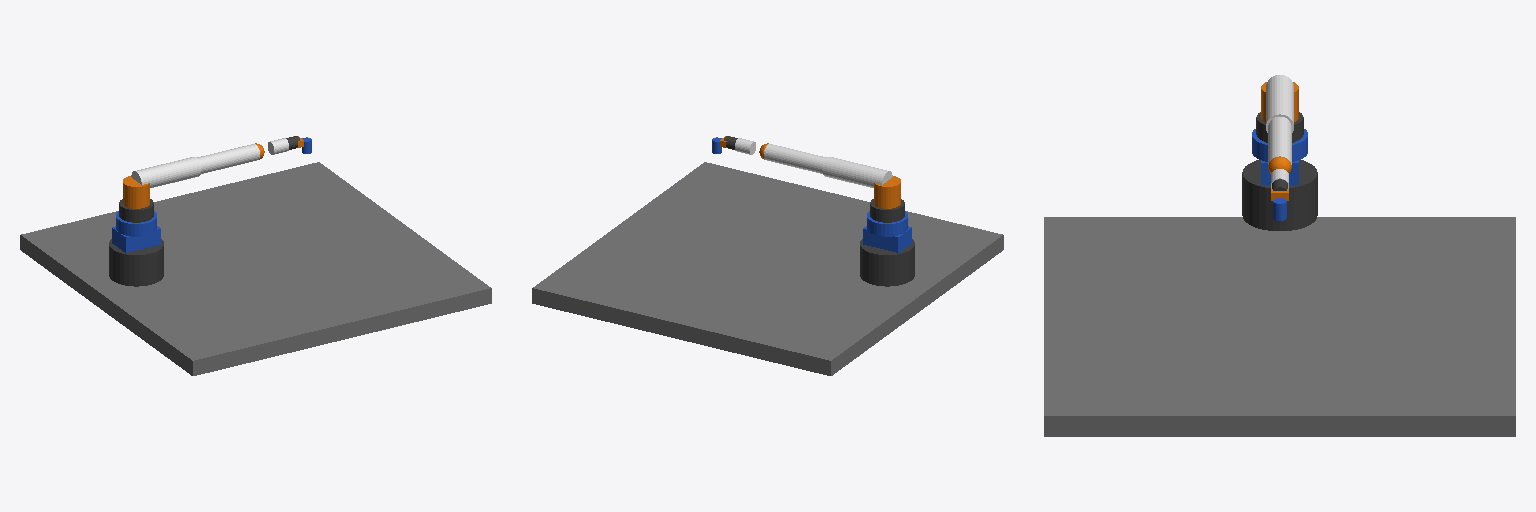
URDF robot description (cleaning_robot):
<?xml version="1.0" ?>
<!--
  Cleaning Robot Assembly URDF
  ============================
  8-DoF Redundant Manipulator:
  - 2-DoF Pan-Tilt Platform (roll/pitch)
  - 6-DoF Unitree Z1 Arm
  
  Frame definitions:
  - world: Fixed world frame
  - table: Table surface frame (where cleaning happens)
  - platform_base: Base of the pan-tilt platform
  - platform_roll_link: After roll joint
  - platform_pitch_link: After pitch joint (top of platform)
  - z1_base: Base of Z1 arm (fixed to platform top)
  - link1-6: Z1 arm links
  - ee_link: End-effector link
  - tool_tip: Tool center point (TCP)
  
  Joint order (q0-q7):
  0: platform_roll  (X-axis rotation)
  1: platform_pitch (Y-axis rotation)
  2: z1_joint1 (shoulder yaw)
  3: z1_joint2 (shoulder pitch)
  4: z1_joint3 (elbow pitch)
  5: z1_joint4 (wrist yaw)
  6: z1_joint5 (wrist pitch)
  7: z1_joint6 (wrist roll)
-->
<robot name="cleaning_robot">
    <!-- Materials -->
    <material name="grey">
        <color rgba="0.5 0.5 0.5 1"/>
    </material>
    <material name="dark_grey">
        <color rgba="0.3 0.3 0.3 1"/>
    </material>
    <material name="blue">
        <color rgba="0.2 0.4 0.8 1"/>
    </material>
    <material name="orange">
        <color rgba="0.9 0.5 0.1 1"/>
    </material>
    <material name="white">
        <color rgba="0.9 0.9 0.9 1"/>
    </material>

    <!-- World frame -->
    <link name="world"/>

    <!-- Table link (represents the cleaning surface) -->
    <joint name="table_fixed" type="fixed">
        <parent link="world"/>
        <child link="table"/>
        <origin xyz="0 0 0" rpy="0 0 0"/>
    </joint>

    <link name="table">
        <visual>
            <origin xyz="0.4 0 -0.025" rpy="0 0 0"/>
            <geometry>
                <box size="1.0 1.0 0.05"/>
            </geometry>
            <material name="grey"/>
        </visual>
        <collision>
            <origin xyz="0.4 0 -0.025" rpy="0 0 0"/>
            <geometry>
                <box size="1.0 1.0 0.05"/>
            </geometry>
        </collision>
        <inertial>
            <mass value="10.0"/>
            <inertia ixx="1.0" ixy="0" ixz="0" iyy="1.0" iyz="0" izz="1.0"/>
        </inertial>
    </link>

    <!-- Platform base (fixed to world, elevated) -->
    <joint name="platform_base_fixed" type="fixed">
        <parent link="world"/>
        <child link="platform_base"/>
        <origin xyz="0 0 0.1" rpy="0 0 0"/>
    </joint>

    <link name="platform_base">
        <visual>
            <origin xyz="0 0 0" rpy="0 0 0"/>
            <geometry>
                <cylinder radius="0.08" length="0.1"/>
            </geometry>
            <material name="dark_grey"/>
        </visual>
        <collision>
            <origin xyz="0 0 0" rpy="0 0 0"/>
            <geometry>
                <cylinder radius="0.08" length="0.1"/>
            </geometry>
        </collision>
        <inertial>
            <mass value="2.0"/>
            <origin xyz="0 0 0"/>
            <inertia ixx="0.01" ixy="0" ixz="0" iyy="0.01" iyz="0" izz="0.01"/>
        </inertial>
    </link>

    <!-- Platform Roll Joint (rotation about X-axis) -->
    <joint name="platform_roll" type="revolute">
        <parent link="platform_base"/>
        <child link="platform_roll_link"/>
        <origin xyz="0 0 0.05" rpy="0 0 0"/>
        <axis xyz="1 0 0"/>
        <limit lower="-0.785" upper="0.785" effort="50.0" velocity="2.0"/>
        <dynamics damping="0.5" friction="0.1"/>
    </joint>

    <link name="platform_roll_link">
        <visual>
            <origin xyz="0 0 0.025" rpy="0 0 0"/>
            <geometry>
                <box size="0.12 0.08 0.05"/>
            </geometry>
            <material name="blue"/>
        </visual>
        <collision>
            <origin xyz="0 0 0.025" rpy="0 0 0"/>
            <geometry>
                <box size="0.12 0.08 0.05"/>
            </geometry>
        </collision>
        <inertial>
            <mass value="0.5"/>
            <origin xyz="0 0 0.025"/>
            <inertia ixx="0.002" ixy="0" ixz="0" iyy="0.002" iyz="0" izz="0.002"/>
        </inertial>
    </link>

    <!-- Platform Pitch Joint (rotation about Y-axis) -->
    <joint name="platform_pitch" type="revolute">
        <parent link="platform_roll_link"/>
        <child link="platform_pitch_link"/>
        <origin xyz="0 0 0.05" rpy="0 0 0"/>
        <axis xyz="0 1 0"/>
        <limit lower="-0.785" upper="0.785" effort="50.0" velocity="2.0"/>
        <dynamics damping="0.5" friction="0.1"/>
    </joint>

    <link name="platform_pitch_link">
        <visual>
            <origin xyz="0 0 0.02" rpy="0 0 0"/>
            <geometry>
                <cylinder radius="0.06" length="0.04"/>
            </geometry>
            <material name="blue"/>
        </visual>
        <collision>
            <origin xyz="0 0 0.02" rpy="0 0 0"/>
            <geometry>
                <cylinder radius="0.06" length="0.04"/>
            </geometry>
        </collision>
        <inertial>
            <mass value="0.3"/>
            <origin xyz="0 0 0.02"/>
            <inertia ixx="0.001" ixy="0" ixz="0" iyy="0.001" iyz="0" izz="0.001"/>
        </inertial>
    </link>

    <!-- Z1 Base (fixed to platform top) -->
    <joint name="z1_base_fixed" type="fixed">
        <parent link="platform_pitch_link"/>
        <child link="z1_base"/>
        <origin xyz="0 0 0.04" rpy="0 0 0"/>
    </joint>

    <link name="z1_base">
        <visual>
            <origin xyz="0 0 0.02" rpy="0 0 0"/>
            <geometry>
                <cylinder radius="0.05" length="0.04"/>
            </geometry>
            <material name="dark_grey"/>
        </visual>
        <collision>
            <origin xyz="0 0 0.02" rpy="0 0 0"/>
            <geometry>
                <cylinder radius="0.05" length="0.04"/>
            </geometry>
        </collision>
        <inertial>
            <mass value="0.8"/>
            <origin xyz="0 0 0.02"/>
            <inertia ixx="0.002" ixy="0" ixz="0" iyy="0.002" iyz="0" izz="0.002"/>
        </inertial>
    </link>

    <!-- ==================== UNITREE Z1 ARM (6-DoF) ==================== -->
    <!-- Joint 1: Shoulder Yaw (Z-axis) -->
    <joint name="z1_joint1" type="revolute">
        <parent link="z1_base"/>
        <child link="z1_link1"/>
        <origin xyz="0 0 0.04" rpy="0 0 0"/>
        <axis xyz="0 0 1"/>
        <limit lower="-2.618" upper="2.618" effort="33.5" velocity="3.14"/>
        <dynamics damping="0.1" friction="0.05"/>
    </joint>

    <link name="z1_link1">
        <visual>
            <origin xyz="0 0 0.035" rpy="0 0 0"/>
            <geometry>
                <cylinder radius="0.04" length="0.07"/>
            </geometry>
            <material name="orange"/>
        </visual>
        <collision>
            <origin xyz="0 0 0.035" rpy="0 0 0"/>
            <geometry>
                <cylinder radius="0.04" length="0.07"/>
            </geometry>
        </collision>
        <inertial>
            <mass value="1.2"/>
            <origin xyz="0 0 0.035"/>
            <inertia ixx="0.003" ixy="0" ixz="0" iyy="0.003" iyz="0" izz="0.002"/>
        </inertial>
    </link>

    <!-- Joint 2: Shoulder Pitch (Y-axis) -->
    <joint name="z1_joint2" type="revolute">
        <parent link="z1_link1"/>
        <child link="z1_link2"/>
        <origin xyz="0 0 0.07" rpy="0 0 0"/>
        <axis xyz="0 1 0"/>
        <limit lower="-2.094" upper="2.094" effort="33.5" velocity="3.14"/>
        <dynamics damping="0.1" friction="0.05"/>
    </joint>

    <link name="z1_link2">
        <visual>
            <origin xyz="0.1 0 0" rpy="0 1.5708 0"/>
            <geometry>
                <cylinder radius="0.03" length="0.2"/>
            </geometry>
            <material name="white"/>
        </visual>
        <collision>
            <origin xyz="0.1 0 0" rpy="0 1.5708 0"/>
            <geometry>
                <cylinder radius="0.03" length="0.2"/>
            </geometry>
        </collision>
        <inertial>
            <mass value="0.9"/>
            <origin xyz="0.1 0 0"/>
            <inertia ixx="0.004" ixy="0" ixz="0" iyy="0.004" iyz="0" izz="0.001"/>
        </inertial>
    </link>

    <!-- Joint 3: Elbow Pitch (Y-axis) -->
    <joint name="z1_joint3" type="revolute">
        <parent link="z1_link2"/>
        <child link="z1_link3"/>
        <origin xyz="0.2 0 0" rpy="0 0 0"/>
        <axis xyz="0 1 0"/>
        <limit lower="-2.792" upper="2.792" effort="33.5" velocity="3.14"/>
        <dynamics damping="0.1" friction="0.05"/>
    </joint>

    <link name="z1_link3">
        <visual>
            <origin xyz="0.1 0 0" rpy="0 1.5708 0"/>
            <geometry>
                <cylinder radius="0.025" length="0.2"/>
            </geometry>
            <material name="white"/>
        </visual>
        <collision>
            <origin xyz="0.1 0 0" rpy="0 1.5708 0"/>
            <geometry>
                <cylinder radius="0.025" length="0.2"/>
            </geometry>
        </collision>
        <inertial>
            <mass value="0.7"/>
            <origin xyz="0.1 0 0"/>
            <inertia ixx="0.003" ixy="0" ixz="0" iyy="0.003" iyz="0" izz="0.0008"/>
        </inertial>
    </link>

    <!-- Joint 4: Wrist Yaw (Z-axis) -->
    <joint name="z1_joint4" type="revolute">
        <parent link="z1_link3"/>
        <child link="z1_link4"/>
        <origin xyz="0.2 0 0" rpy="0 0 0"/>
        <axis xyz="0 0 1"/>
        <limit lower="-2.967" upper="2.967" effort="6.0" velocity="6.28"/>
        <dynamics damping="0.05" friction="0.02"/>
    </joint>

    <link name="z1_link4">
        <visual>
            <origin xyz="0 0 0" rpy="0 0 0"/>
            <geometry>
                <sphere radius="0.025"/>
            </geometry>
            <material name="orange"/>
        </visual>
        <collision>
            <origin xyz="0 0 0" rpy="0 0 0"/>
            <geometry>
                <sphere radius="0.025"/>
            </geometry>
        </collision>
        <inertial>
            <mass value="0.3"/>
            <origin xyz="0 0 0"/>
            <inertia ixx="0.0003" ixy="0" ixz="0" iyy="0.0003" iyz="0" izz="0.0003"/>
        </inertial>
    </link>

    <!-- Joint 5: Wrist Pitch (Y-axis) -->
    <joint name="z1_joint5" type="revolute">
        <parent link="z1_link4"/>
        <child link="z1_link5"/>
        <origin xyz="0.05 0 0" rpy="0 0 0"/>
        <axis xyz="0 1 0"/>
        <limit lower="-1.745" upper="1.745" effort="6.0" velocity="6.28"/>
        <dynamics damping="0.05" friction="0.02"/>
    </joint>

    <link name="z1_link5">
        <visual>
            <origin xyz="0.025 0 0" rpy="0 1.5708 0"/>
            <geometry>
                <cylinder radius="0.02" length="0.05"/>
            </geometry>
            <material name="white"/>
        </visual>
        <collision>
            <origin xyz="0.025 0 0" rpy="0 1.5708 0"/>
            <geometry>
                <cylinder radius="0.02" length="0.05"/>
            </geometry>
        </collision>
        <inertial>
            <mass value="0.2"/>
            <origin xyz="0.025 0 0"/>
            <inertia ixx="0.0001" ixy="0" ixz="0" iyy="0.0001" iyz="0" izz="0.0001"/>
        </inertial>
    </link>

    <!-- Joint 6: Wrist Roll (X-axis) -->
    <joint name="z1_joint6" type="revolute">
        <parent link="z1_link5"/>
        <child link="z1_link6"/>
        <origin xyz="0.05 0 0" rpy="0 0 0"/>
        <axis xyz="1 0 0"/>
        <limit lower="-3.14159" upper="3.14159" effort="6.0" velocity="6.28"/>
        <dynamics damping="0.05" friction="0.02"/>
    </joint>

    <link name="z1_link6">
        <visual>
            <origin xyz="0.02 0 0" rpy="0 1.5708 0"/>
            <geometry>
                <cylinder radius="0.018" length="0.04"/>
            </geometry>
            <material name="dark_grey"/>
        </visual>
        <collision>
            <origin xyz="0.02 0 0" rpy="0 1.5708 0"/>
            <geometry>
                <cylinder radius="0.018" length="0.04"/>
            </geometry>
        </collision>
        <inertial>
            <mass value="0.15"/>
            <origin xyz="0.02 0 0"/>
            <inertia ixx="0.00005" ixy="0" ixz="0" iyy="0.00005" iyz="0" izz="0.00005"/>
        </inertial>
    </link>

    <!-- End-effector link -->
    <joint name="ee_fixed" type="fixed">
        <parent link="z1_link6"/>
        <child link="ee_link"/>
        <origin xyz="0.04 0 0" rpy="0 0 0"/>
    </joint>

    <link name="ee_link">
        <visual>
            <origin xyz="0 0 0" rpy="0 0 0"/>
            <geometry>
                <box size="0.02 0.04 0.02"/>
            </geometry>
            <material name="orange"/>
        </visual>
        <collision>
            <origin xyz="0 0 0" rpy="0 0 0"/>
            <geometry>
                <box size="0.02 0.04 0.02"/>
            </geometry>
        </collision>
        <inertial>
            <mass value="0.1"/>
            <origin xyz="0 0 0"/>
            <inertia ixx="0.00002" ixy="0" ixz="0" iyy="0.00002" iyz="0" izz="0.00002"/>
        </inertial>
    </link>

    <!-- Tool tip (TCP - Tool Center Point) -->
    <!-- Convention: tool z-axis points DOWN toward table for cleaning -->
    <joint name="tool_tip_fixed" type="fixed">
        <parent link="ee_link"/>
        <child link="tool_tip"/>
        <!-- When arm is horizontal, ee_link z-axis points UP (+Z world) -->
        <!-- Rx(180°) = rpy="3.14159 0 0" flips z-axis from +Z to -Z (DOWN) -->
        <origin xyz="0.03 0 0" rpy="3.14159 0 0"/>
    </joint>

    <link name="tool_tip">
        <visual>
            <origin xyz="0 0 0.02" rpy="0 0 0"/>
            <geometry>
                <cylinder radius="0.015" length="0.04"/>
            </geometry>
            <material name="blue"/>
        </visual>
        <inertial>
            <mass value="0.05"/>
            <origin xyz="0 0 0.02"/>
            <inertia ixx="0.00001" ixy="0" ixz="0" iyy="0.00001" iyz="0" izz="0.00001"/>
        </inertial>
    </link>

</robot>

--- Render facts (derived) ---
The picture shows the robot from 3 angles, left to right: view 1: azimuth 30°, elevation 25°; view 2: azimuth 150°, elevation 25°; view 3: azimuth 270°, elevation 25°; orthographic projection.
Robot: cleaning_robot — 14 links, 13 joints (8 revolute, 5 fixed); root link world; default pose: all joints at 0.
Links seen in each view (by area): view 1: table, platform_base, z1_link2, z1_link3, platform_roll_link, z1_link1, platform_pitch_link, z1_base; view 2: table, platform_base, z1_link2, z1_link3, platform_roll_link, z1_link1, platform_pitch_link, z1_base; view 3: table, platform_base, z1_link2, z1_link3, platform_pitch_link.
Link boxes in pixels (x1,y1,x2,y2): table: (20,162,491,375); platform_base: (109,239,163,286); z1_link2: (131,157,200,187); z1_link3: (197,144,259,173); platform_roll_link: (112,226,160,252); z1_link1: (123,176,149,208); platform_pitch_link: (116,211,156,236); z1_base: (119,199,153,222); table: (532,162,1003,375); platform_base: (860,239,914,286); z1_link2: (823,157,892,187); z1_link3: (764,144,826,173); platform_roll_link: (863,226,911,252); z1_link1: (874,176,900,208); platform_pitch_link: (867,211,907,236); z1_base: (870,199,904,222); table: (1044,217,1515,436); platform_base: (1242,160,1317,230); z1_link2: (1266,75,1293,132); z1_link3: (1268,117,1291,164); platform_pitch_link: (1252,129,1307,161).
Size in the robot's own frame: 1 by 1 by 0.43 metres.
Geometry: primitives only (box / cylinder / sphere), no mesh files.